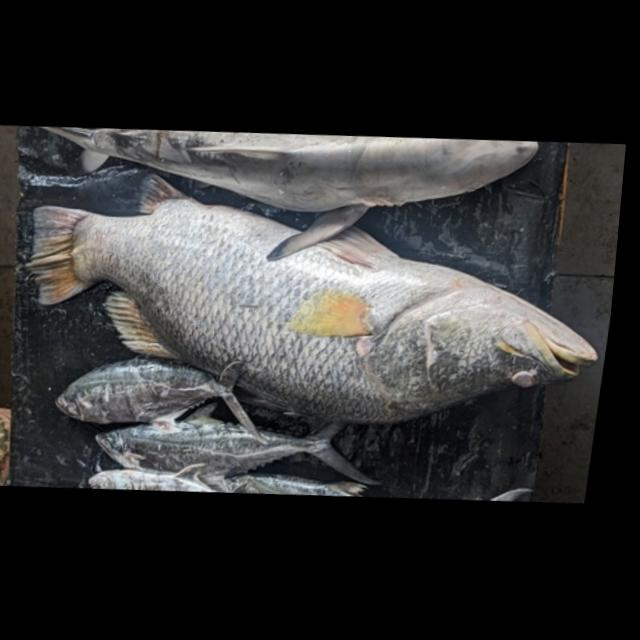Seabass: (0, 153, 625, 446)
